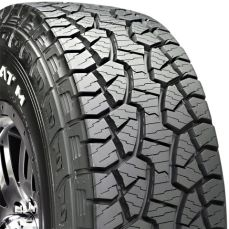new_condition: (35, 4, 228, 229)
